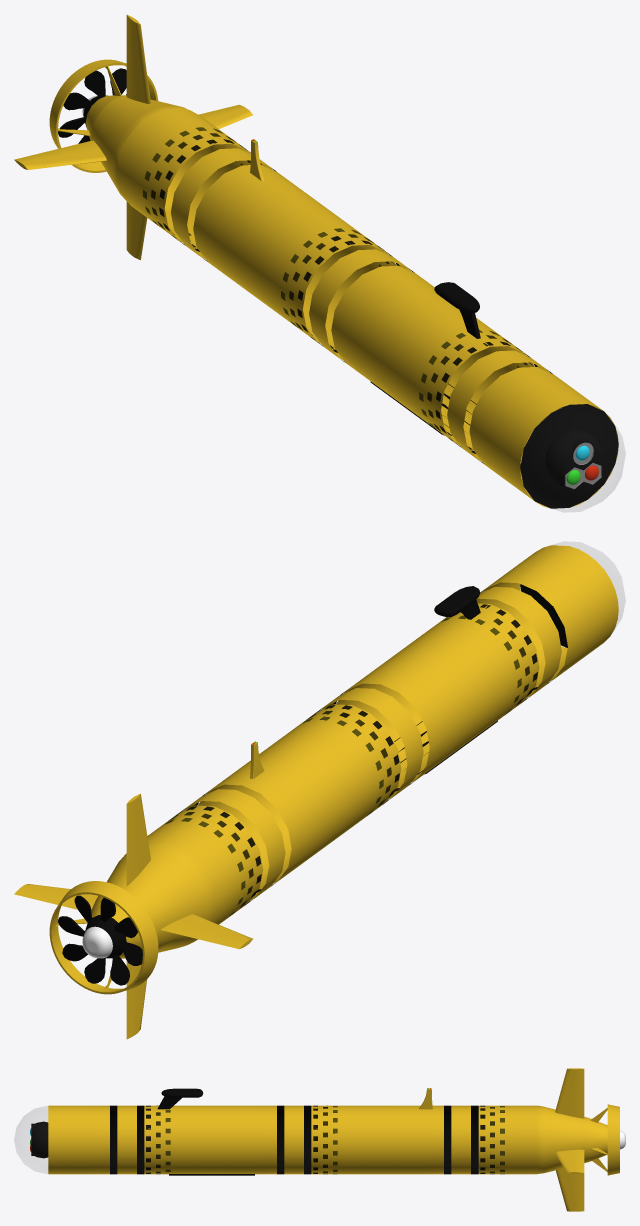
Rendered from auv.glb.
The picture shows the model from 3 angles, top to bottom: view 1: azimuth 30°, elevation 25°; view 2: azimuth 150°, elevation 25°; view 3: azimuth 270°, elevation 25°; orthographic projection. The views are drawn at different scales.
Parts seen in each view (by area): view 1: Object_175, Object_157, Object_173, Object_160, Object_168, Layer 03, Object_170, Object_181, Object_180, Object_167, propeller, antenna (+2 smaller); view 2: Object_175, Object_157, Object_173, Object_160, propeller, Layer 03, Object_180, Object_181, Object_170, antenna, glass, Object_176; view 3: Object_175, Object_157, Object_173, Object_160, Layer 01, Layer 03, Object_170, Object_180, Object_181, glass, Object_167, antenna.
Part boxes in pixels (<box>): Object_175: <box>14,14,252,260</box>; Object_157: <box>193,139,396,349</box>; Object_173: <box>331,265,534,450</box>; Object_160: <box>469,367,618,508</box>; Object_168: <box>520,404,618,508</box>; Layer 03: <box>143,127,533,449</box>; Object_170: <box>447,350,560,462</box>; Object_181: <box>309,249,410,359</box>; Object_180: <box>171,148,272,258</box>; Object_167: <box>544,430,603,490</box>; propeller: <box>58,68,126,143</box>; antenna: <box>434,282,480,338</box>; Object_175: <box>14,793,263,1039</box>; Object_157: <box>198,704,401,889</box>; Object_173: <box>336,603,539,788</box>; Object_160: <box>476,545,618,686</box>; propeller: <box>57,895,142,985</box>; Layer 03: <box>165,604,537,917</box>; Object_180: <box>183,789,285,899</box>; Object_181: <box>322,688,423,798</box>; Object_170: <box>476,587,561,697</box>; antenna: <box>434,586,480,619</box>; glass: <box>554,542,625,626</box>; Object_176: <box>82,926,112,958</box>; Object_175: <box>478,1068,619,1211</box>; Object_157: <box>311,1088,443,1174</box>; Object_173: <box>144,1105,276,1174</box>; Object_160: <box>48,1105,109,1174</box>; Layer 01: <box>110,1105,478,1174</box>; Layer 03: <box>146,1105,504,1174</box>; Object_170: <box>117,1105,136,1174</box>; Object_180: <box>451,1105,470,1174</box>; Object_181: <box>284,1105,303,1174</box>; glass: <box>14,1106,47,1173</box>; Object_167: <box>31,1121,48,1158</box>; antenna: <box>157,1088,203,1109</box>.
Size of the model in its own units: 0.64 by 0.64 by 2.49.
